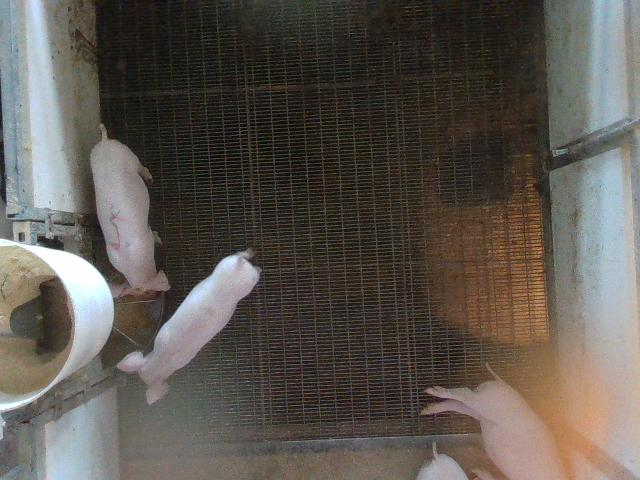pig-5: (90, 125, 170, 297)
